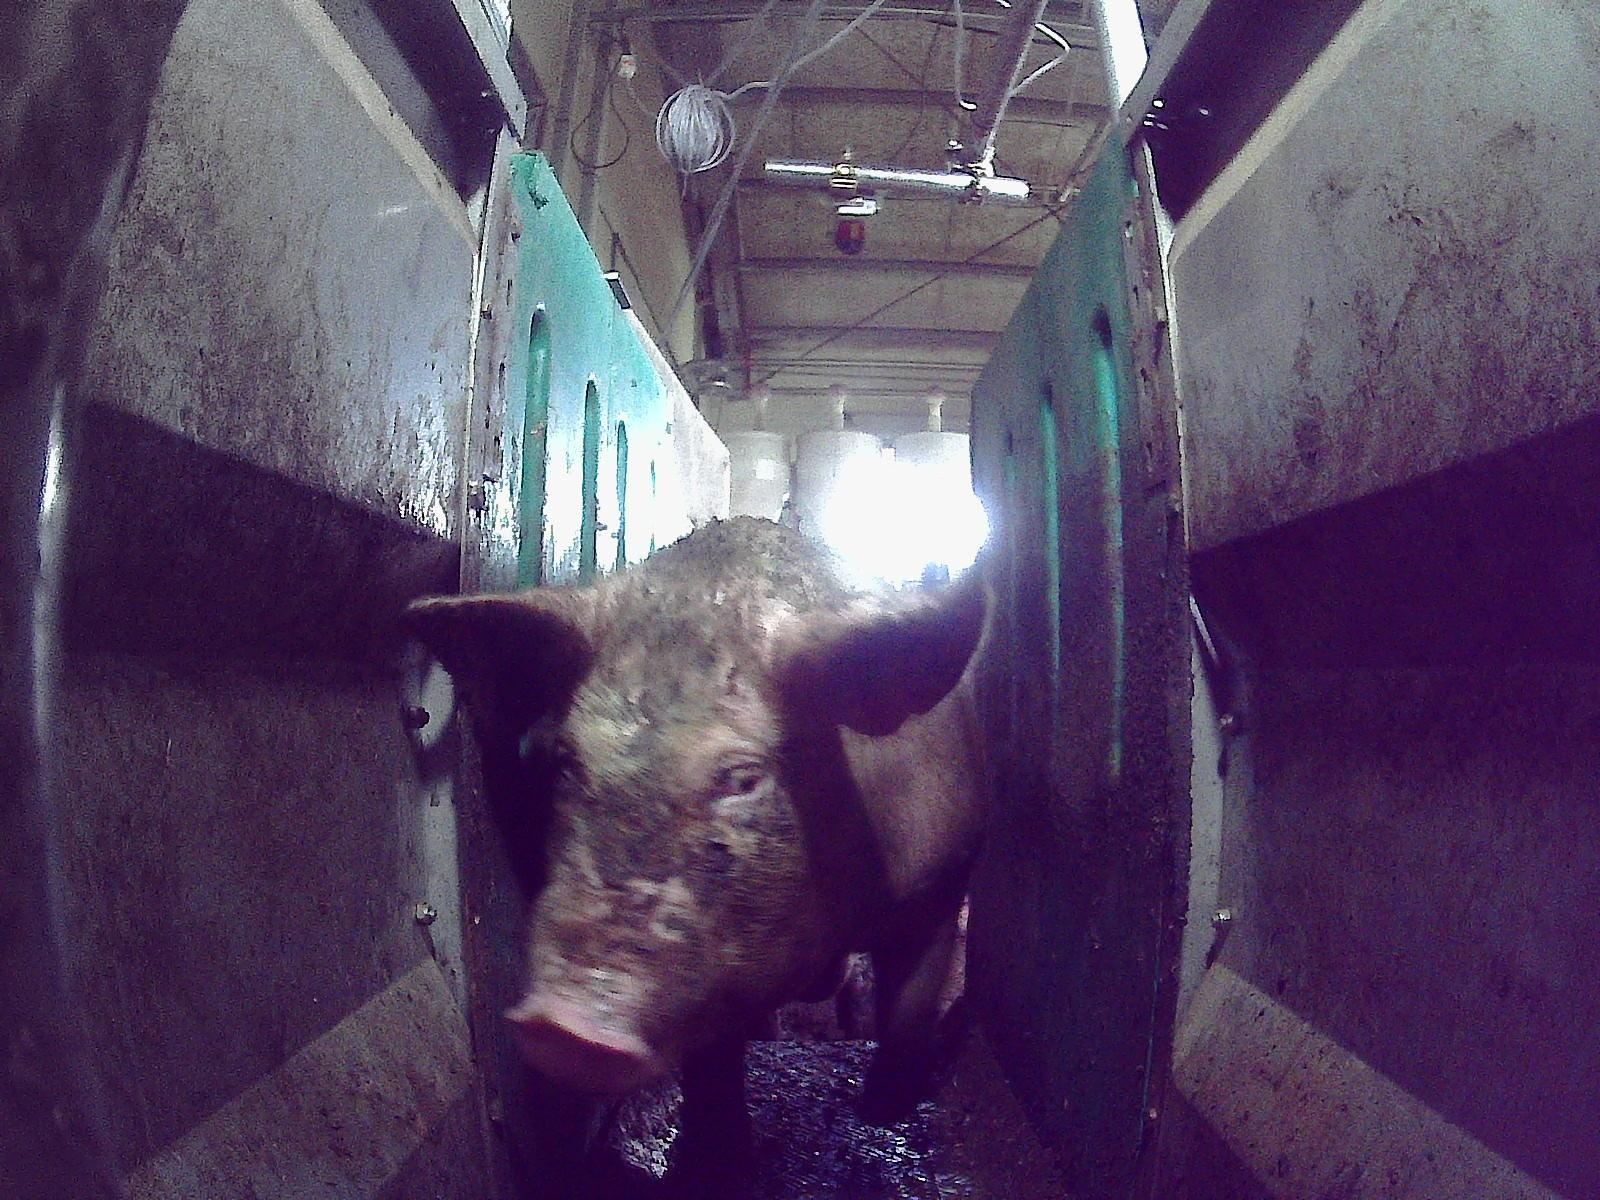Face: (492, 566, 836, 1098)
